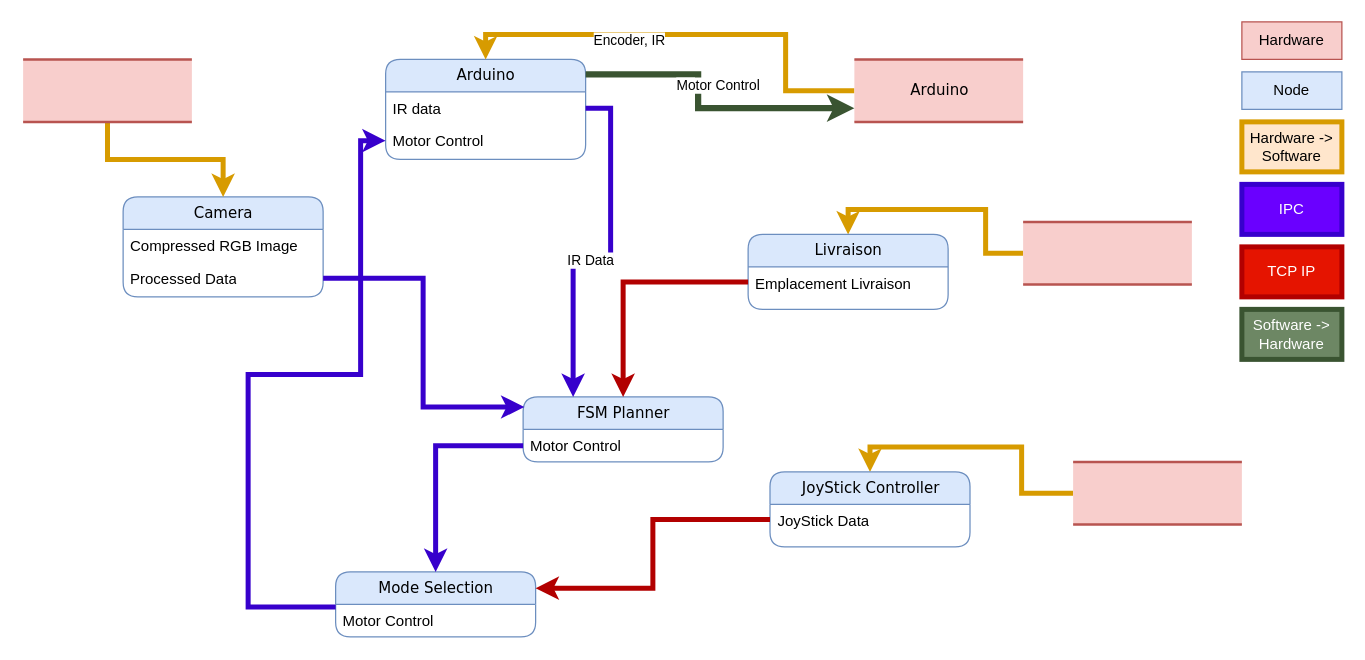
Image size: 1365x660. Some labels were removed from this diagram. The centre of each missing label's shape, as x and y in pixels:
"Gamepad" belongs at point 1156,492.
"Host" belongs at point 1106,252.
"Pi Camera" belongs at point 106,90.
